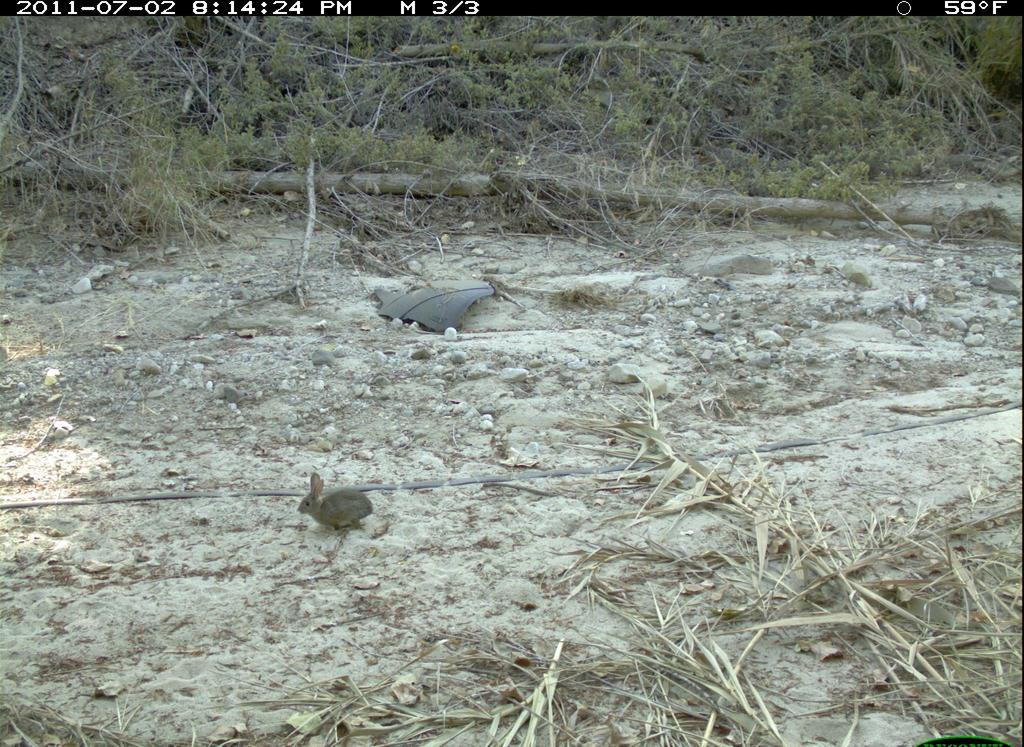rabbit: (294, 466, 378, 539)
